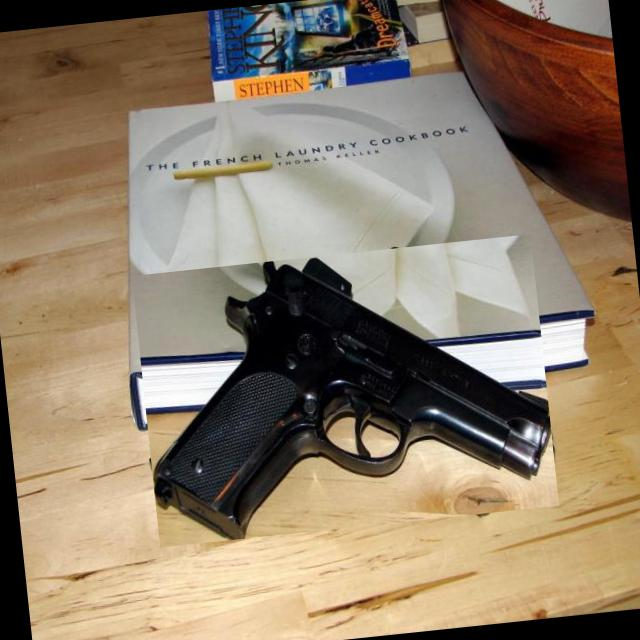Gun: (154, 258, 551, 539)
